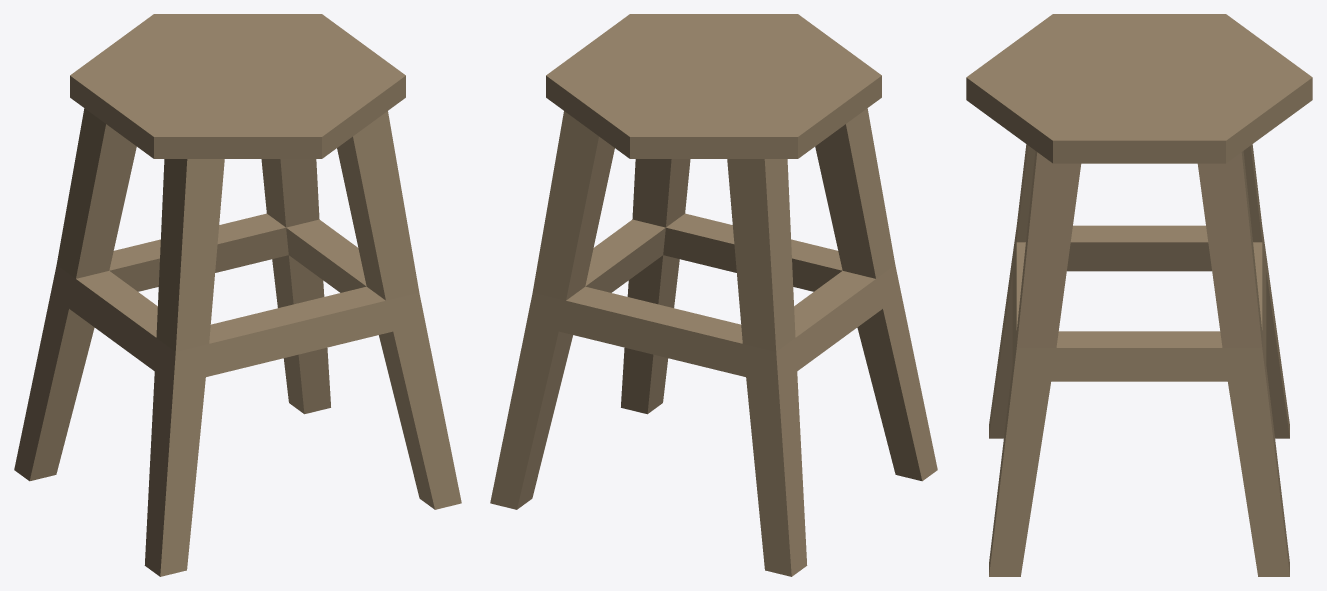
The model's file is Stool.fbx.
3 views of the same model, side by side, from view 1: azimuth 30°, elevation 25°; view 2: azimuth 150°, elevation 25°; view 3: azimuth 270°, elevation 25° (orthographic). The views are drawn at different scales.
Visible parts, largest first — view 1: stool 2; view 2: stool 2; view 3: stool 2.
Part boxes in pixels (left/top/right/bottom): stool 2: left=14, top=14, right=461, bottom=576; stool 2: left=490, top=14, right=937, bottom=576; stool 2: left=966, top=14, right=1312, bottom=576.
Size of the model in its own units: 44.17 by 57.55 by 42.63.
